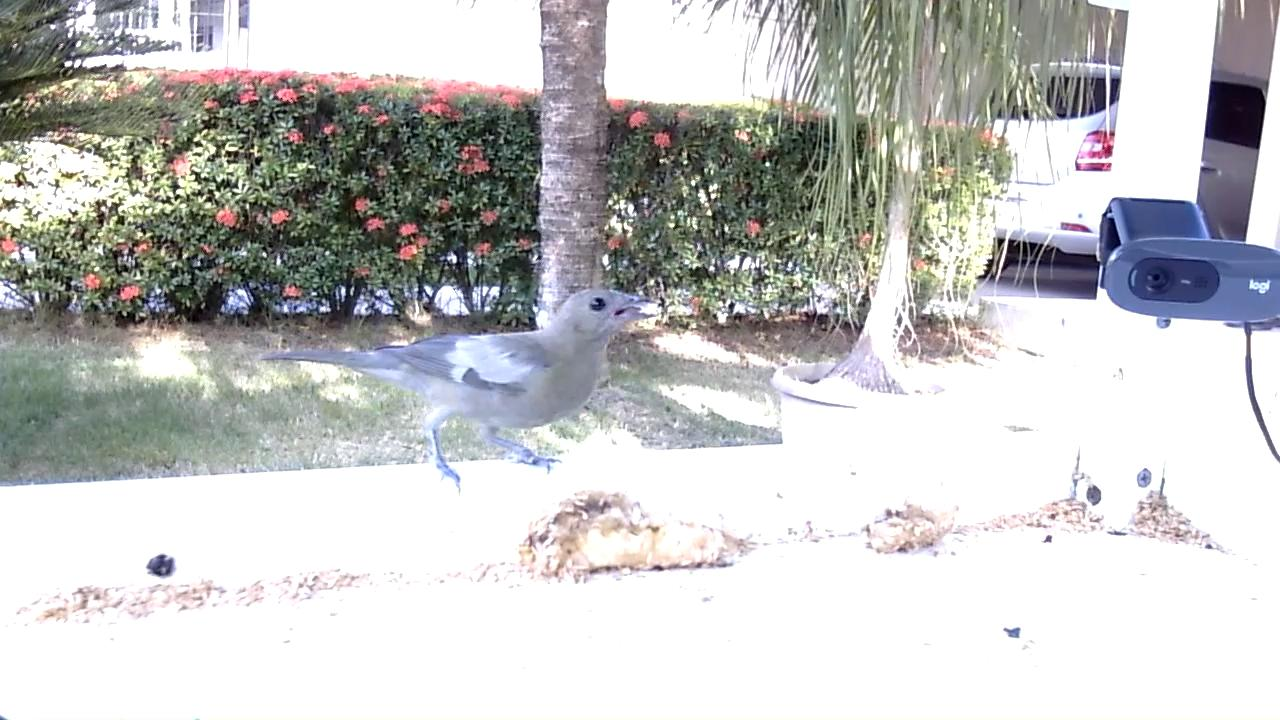sanhaco_do_coqueiro: (262, 288, 657, 495)
